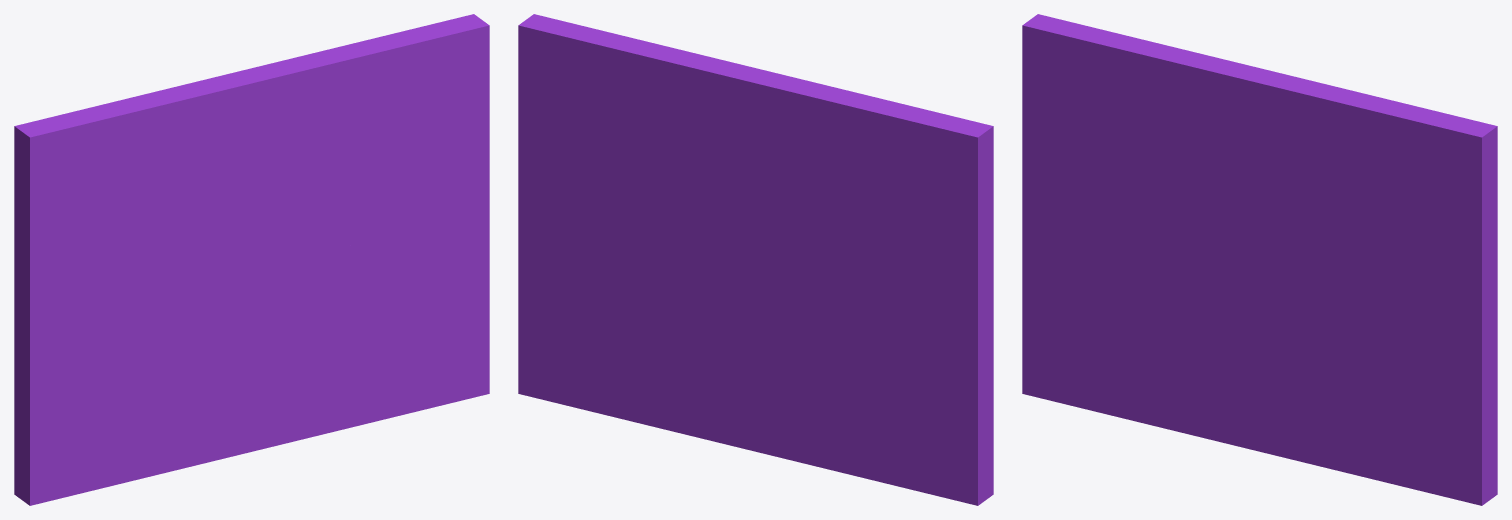
Rendered from Barrier_137_chunks.fbx.
The picture shows the model from 3 angles, left to right: view 1: azimuth 30°, elevation 25°; view 2: azimuth 150°, elevation 25°; view 3: azimuth 330°, elevation 25°; orthographic projection.
Visible parts, largest first — view 1: Barrier_137_0, Barrier_137_3, Barrier_137_1, Barrier_137_2; view 2: Barrier_137_0, Barrier_137_3, Barrier_137_1; view 3: Barrier_137_0, Barrier_137_3, Barrier_137_1, Barrier_137_2.
Part boxes in pixels (x1,y1,x2,y2): Barrier_137_0: [14, 96, 248, 505]; Barrier_137_3: [138, 14, 489, 248]; Barrier_137_1: [163, 212, 489, 473]; Barrier_137_2: [242, 246, 339, 308]; Barrier_137_0: [750, 95, 993, 505]; Barrier_137_3: [518, 14, 866, 264]; Barrier_137_1: [518, 209, 851, 474]; Barrier_137_0: [1022, 14, 1241, 425]; Barrier_137_3: [1149, 44, 1497, 324]; Barrier_137_1: [1155, 287, 1497, 505]; Barrier_137_2: [1234, 241, 1331, 300].
Size of the model in its own units: 376 by 288 by 22.1.
